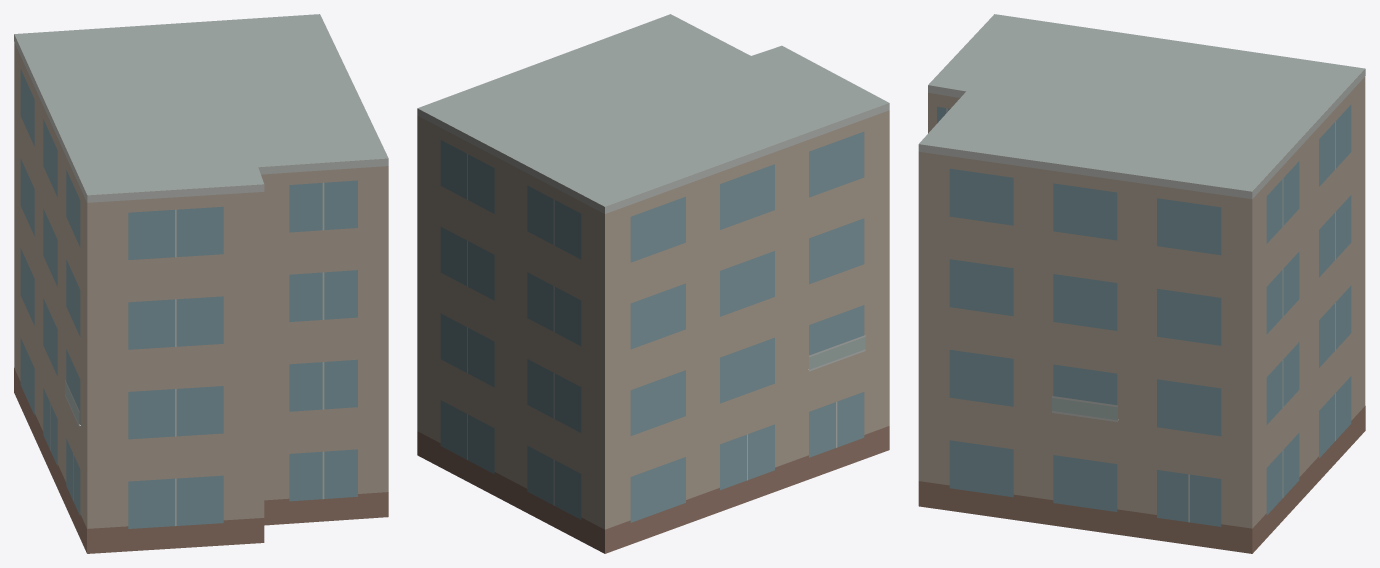
Rendered from survey-upis-32889280.glb.
The picture shows the model from 3 angles, left to right: view 1: azimuth 30°, elevation 25°; view 2: azimuth 150°, elevation 25°; view 3: azimuth 270°, elevation 25°; orthographic projection. The views are drawn at different scales.
Parts seen in each view (by area): view 1: survey-upis-32889280.tmp; view 2: survey-upis-32889280.tmp; view 3: survey-upis-32889280.tmp.
Part boxes in pixels (left/top/right/bottom): survey-upis-32889280.tmp: left=14, top=14, right=388, bottom=553; survey-upis-32889280.tmp: left=417, top=14, right=889, bottom=553; survey-upis-32889280.tmp: left=918, top=14, right=1365, bottom=553.
Size of the model in its own units: 12.32 by 11.7 by 13.09.
